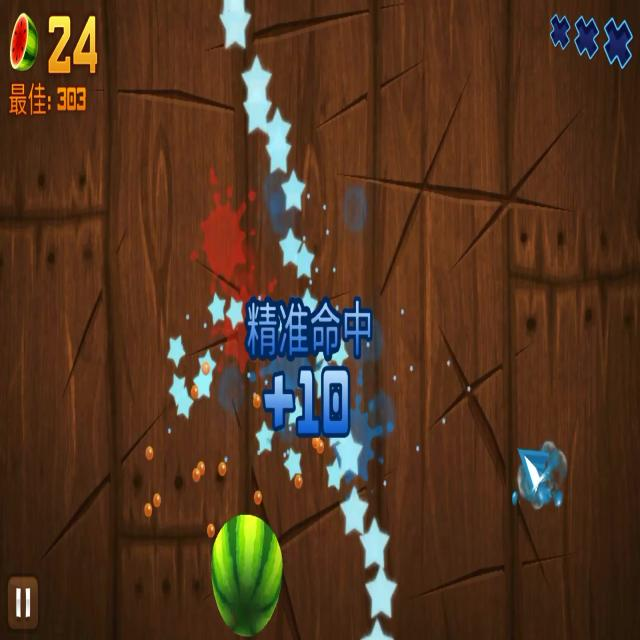fruit: (212, 514, 284, 639)
